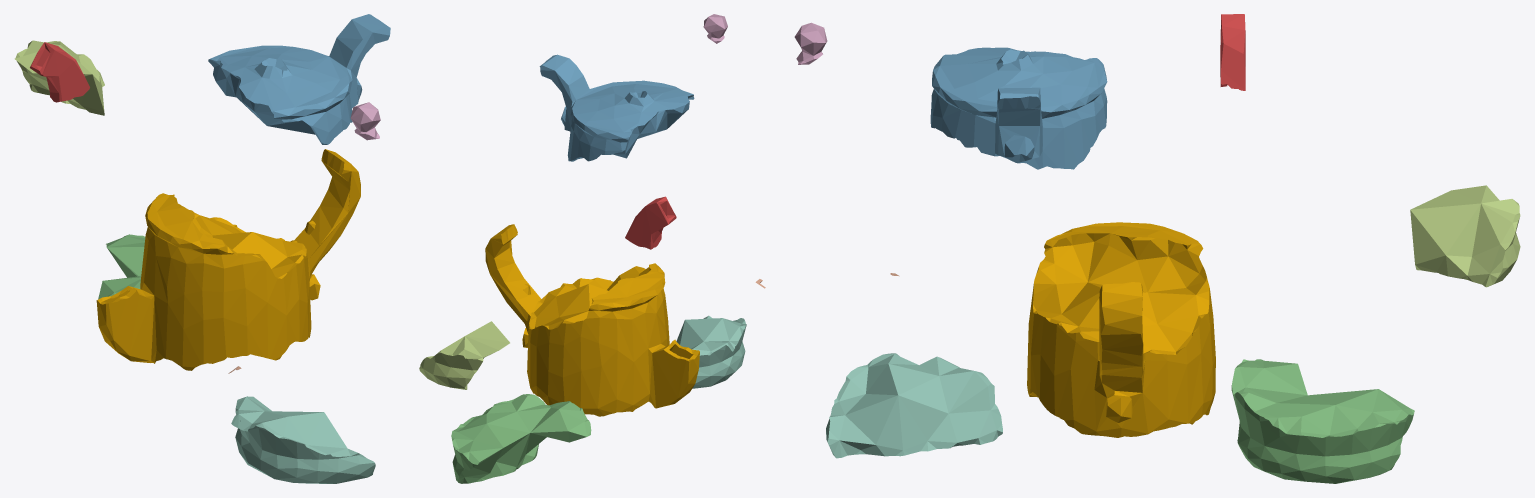
File: mode_8_8pcs_transformed.glb
3 views of the same model, side by side, from view 1: azimuth 30°, elevation 25°; view 2: azimuth 150°, elevation 25°; view 3: azimuth 270°, elevation 25° (orthographic). The views are drawn at different scales.
Parts seen in each view (by area): view 1: piece_0.obj, piece_2.obj, piece_4.obj, piece_5.obj, piece_1.obj, piece_3.obj, piece_6.obj; view 2: piece_0.obj, piece_2.obj, piece_3.obj, piece_4.obj, piece_5.obj, piece_1.obj, piece_6.obj; view 3: piece_0.obj, piece_2.obj, piece_3.obj, piece_4.obj, piece_5.obj, piece_1.obj, piece_6.obj.
Part boxes in pixels (bbox=[...]): piece_0.obj: bbox=[96, 149, 360, 370]; piece_2.obj: bbox=[208, 14, 390, 144]; piece_4.obj: bbox=[231, 396, 375, 483]; piece_5.obj: bbox=[14, 40, 104, 115]; piece_1.obj: bbox=[30, 42, 89, 102]; piece_3.obj: bbox=[98, 234, 145, 299]; piece_6.obj: bbox=[350, 102, 380, 140]; piece_0.obj: bbox=[485, 224, 699, 416]; piece_2.obj: bbox=[539, 54, 694, 161]; piece_3.obj: bbox=[451, 394, 591, 483]; piece_4.obj: bbox=[676, 315, 746, 388]; piece_5.obj: bbox=[419, 321, 509, 389]; piece_1.obj: bbox=[625, 196, 676, 249]; piece_6.obj: bbox=[703, 14, 727, 43]; piece_0.obj: bbox=[1027, 222, 1215, 437]; piece_2.obj: bbox=[930, 47, 1107, 169]; piece_3.obj: bbox=[1231, 359, 1414, 483]; piece_4.obj: bbox=[826, 353, 1002, 458]; piece_5.obj: bbox=[1410, 185, 1520, 287]; piece_1.obj: bbox=[1220, 14, 1245, 90]; piece_6.obj: bbox=[794, 22, 827, 64].
Bounding box in the file's own units: 1 × 1.36 × 2.13.
